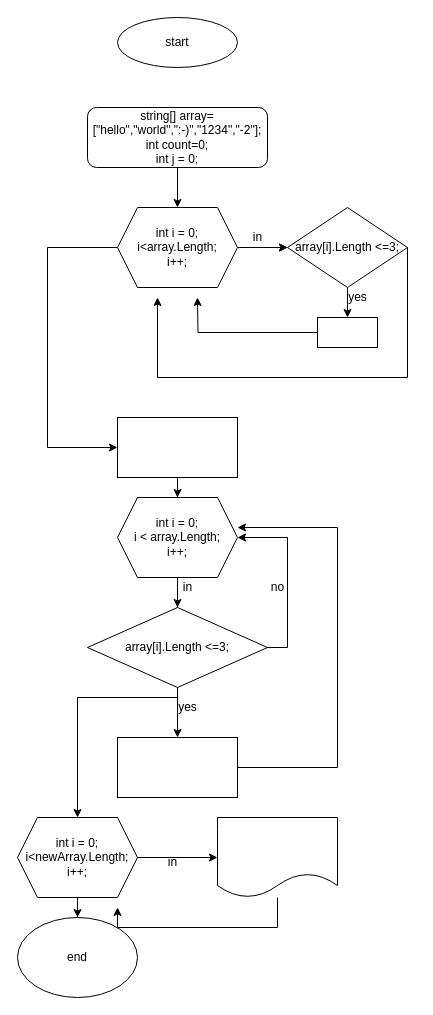
Some shapes in this 433 by 1015 pixel diagram are drawn without their labels. The shapes that lost their labels are listed below. From the top down, each one's centre as x and y in pixels, then its label:
At (x=347, y=332): "count++;".
At (x=177, y=447): "string[] newArray = new string[count];".
At (x=177, y=767): "newArray[j] = array[i]; j++;".
At (x=277, y=857): "print(newArray[i])".
